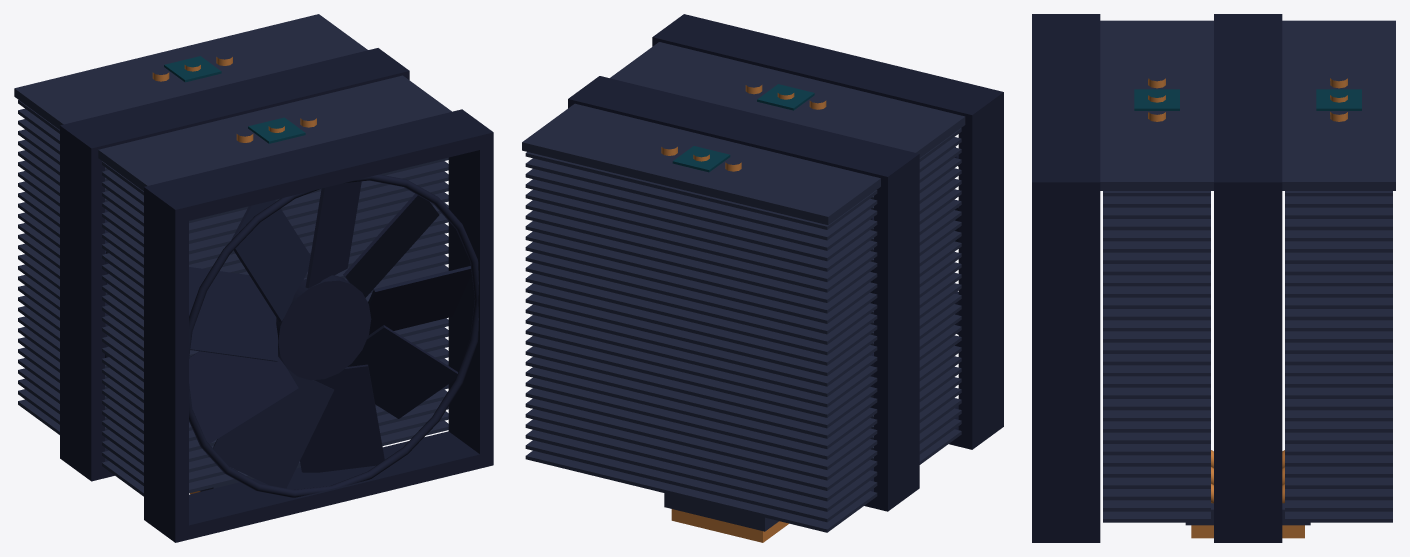
The model's file is cooler-air-big.glb.
The picture shows the model from 3 angles, left to right: view 1: azimuth 30°, elevation 25°; view 2: azimuth 150°, elevation 25°; view 3: azimuth 270°, elevation 25°; orthographic projection. The views are drawn at different scales.
Visible parts, largest first — view 1: blades_2, fan_frame_1, fin_stack_2, fan_frame, top_cap_1, top_cap_2, fin_stack_1, fan_inner_ring_1, cap_logo_glow_2, cap_logo_glow_1, heatpipes; view 2: fin_stack_1, fan_frame, fan_frame_1, top_cap_1, top_cap_2, fin_stack_2, base_block, cold_plate, cap_logo_glow_2, cap_logo_glow_1, heatpipes; view 3: fan_frame, fan_frame_1, fin_stack_1, fin_stack_2, top_cap_1, top_cap_2, heatpipes, cap_logo_glow_1, cap_logo_glow_2, cold_plate.
Part boxes in pixels (x1=…): blades_2: x1=189, y1=181, x2=471, y2=488; fan_frame_1: x1=144, y1=109, x2=493, y2=542; fin_stack_2: x1=102, y1=157, x2=448, y2=496; fan_frame: x1=60, y1=48, x2=409, y2=481; top_cap_1: x1=14, y1=14, x2=367, y2=129; top_cap_2: x1=98, y1=75, x2=451, y2=191; fin_stack_1: x1=18, y1=100, x2=108, y2=434; fan_inner_ring_1: x1=189, y1=174, x2=478, y2=497; cap_logo_glow_2: x1=248, y1=117, x2=305, y2=143; cap_logo_glow_1: x1=164, y1=56, x2=221, y2=82; heatpipes: x1=152, y1=57, x2=316, y2=142; fin_stack_1: x1=525, y1=152, x2=877, y2=532; fan_frame: x1=568, y1=76, x2=919, y2=511; fan_frame_1: x1=652, y1=14, x2=1003, y2=449; top_cap_1: x1=522, y1=103, x2=880, y2=224; top_cap_2: x1=610, y1=42, x2=965, y2=157; fin_stack_2: x1=870, y1=128, x2=961, y2=464; base_block: x1=664, y1=493, x2=778, y2=531; cold_plate: x1=671, y1=509, x2=788, y2=542; cap_logo_glow_2: x1=757, y1=84, x2=814, y2=110; cap_logo_glow_1: x1=672, y1=146, x2=730, y2=172; heatpipes: x1=661, y1=85, x2=826, y2=171; fan_frame: x1=1214, y1=14, x2=1282, y2=542; fan_frame_1: x1=1032, y1=14, x2=1100, y2=542; fin_stack_1: x1=1285, y1=191, x2=1392, y2=522; fin_stack_2: x1=1103, y1=191, x2=1210, y2=522; top_cap_1: x1=1282, y1=20, x2=1395, y2=190; top_cap_2: x1=1100, y1=20, x2=1213, y2=190; heatpipes: x1=1148, y1=78, x2=1347, y2=503; cap_logo_glow_1: x1=1316, y1=89, x2=1361, y2=110; cap_logo_glow_2: x1=1134, y1=89, x2=1179, y2=110; cold_plate: x1=1191, y1=525, x2=1304, y2=538.
Bounding box in the file's own units: 140 × 163 × 128.
